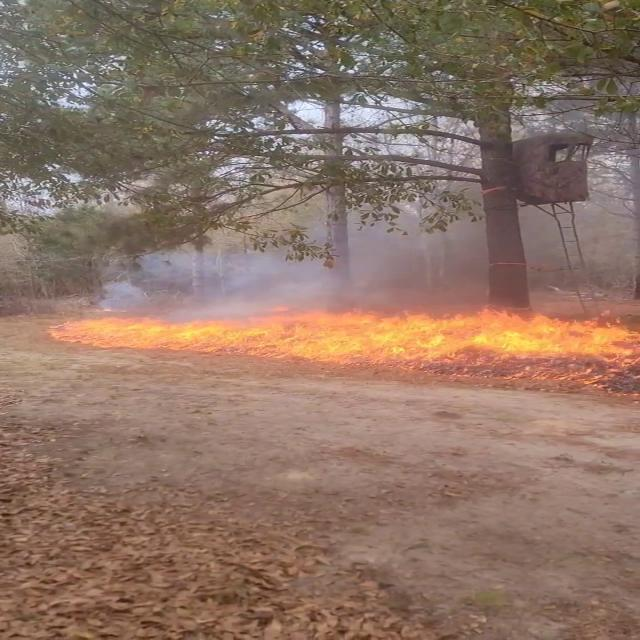Fire: (53, 301, 638, 361)
Smoke: (153, 196, 633, 312)
